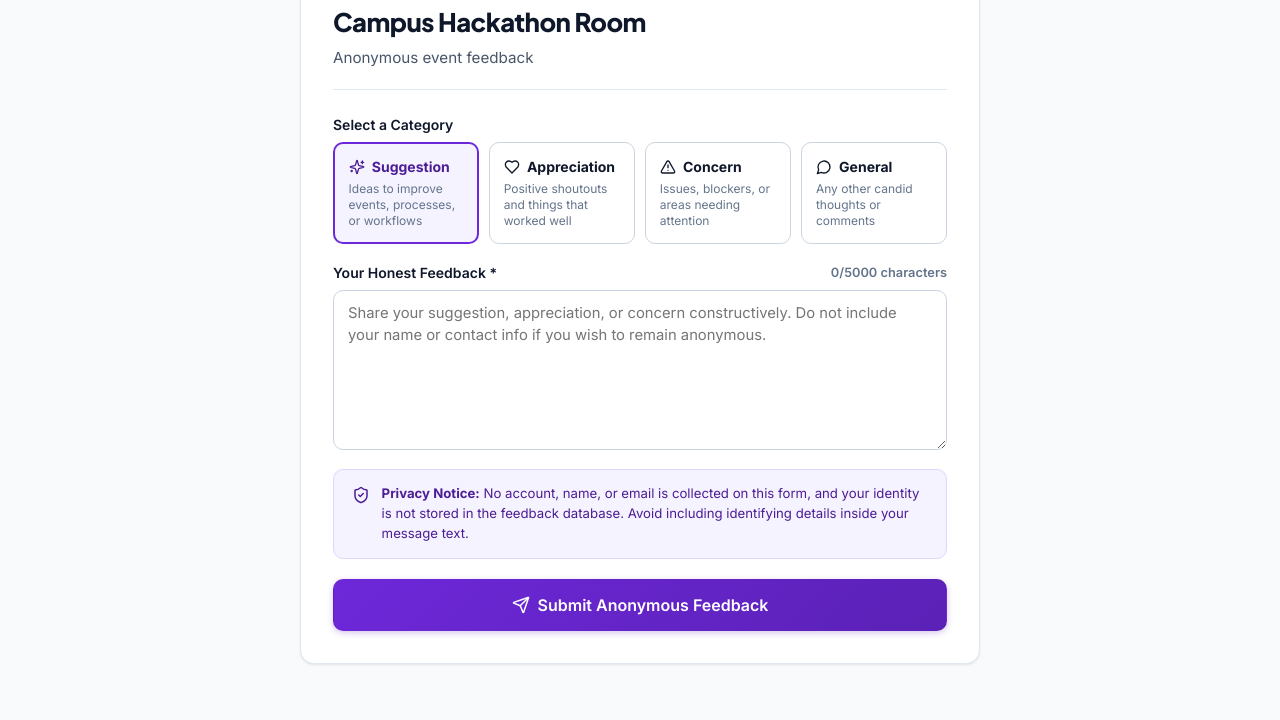
HonestRoom Frontend Test Suite › loads public feedback room, validates input, and submits anonymous feedback
(page scrolled)
Expected: the heading "Campus Hackathon Room" is shown, x1=333 y1=5 x2=646 y2=38
Empty submission validation
Click the button "Submit Anonymous Feedback".
click(640, 605)  # box x1=333 y1=579 x2=947 y2=631
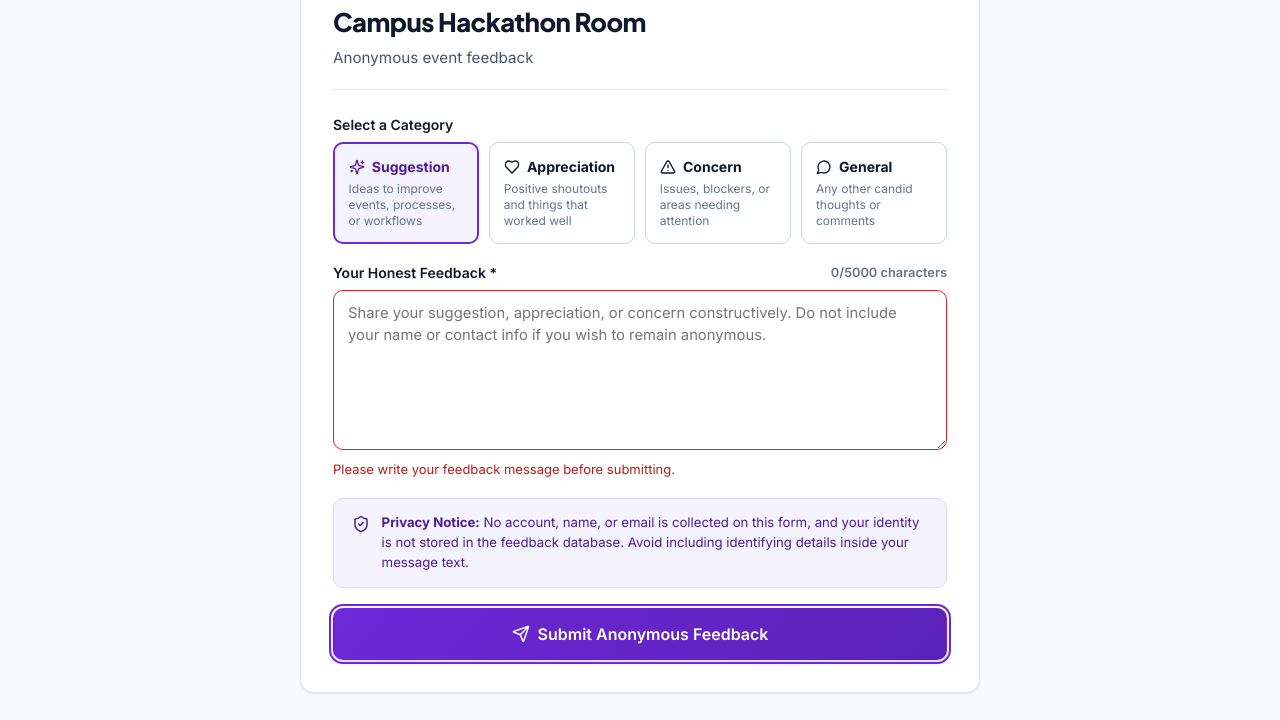
Now the text "Please write your feedback message before submitting." is shown, box x1=333 y1=461 x2=675 y2=477
Valid submission
Type "Great workshops and helpful mentors!" into the text box labelled "Your Honest Feedback * 0/5000 characters".
click(640, 370); type("Great workshops and helpful mentors!")  # box x1=333 y1=290 x2=947 y2=450
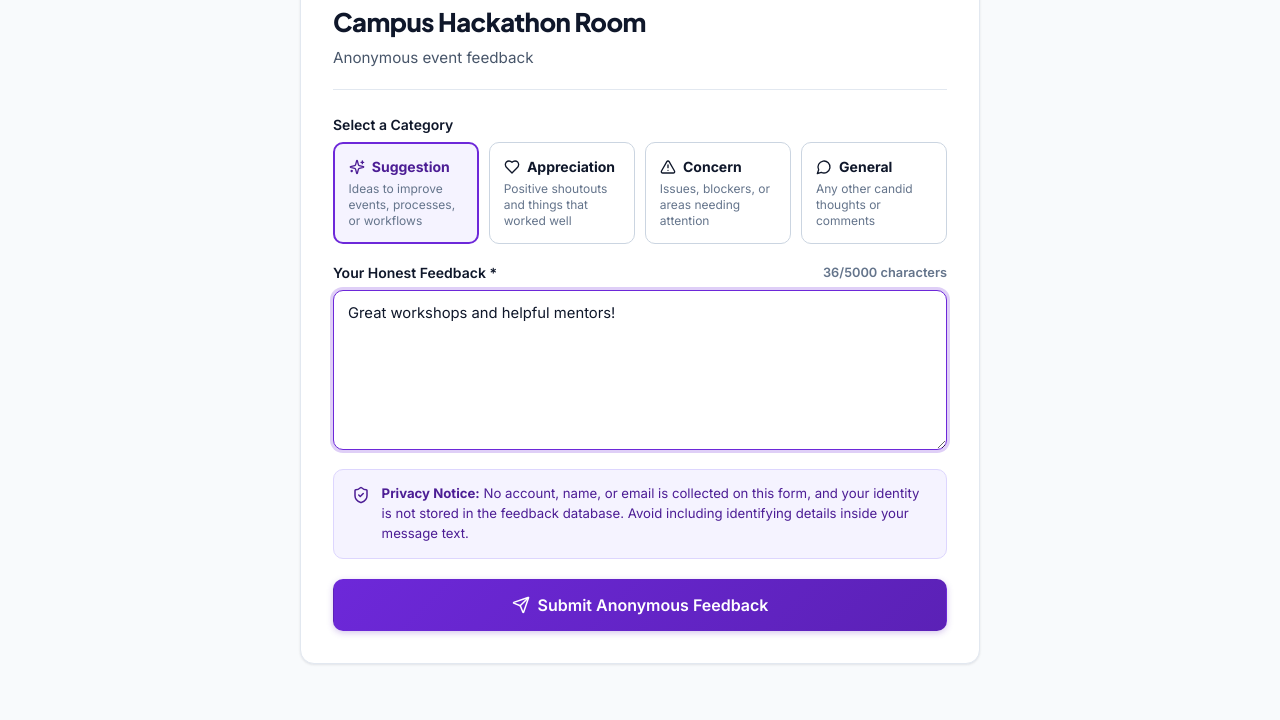
Click the button "Submit Anonymous Feedback".
click(640, 605)  # box x1=333 y1=579 x2=947 y2=631
(page scrolled)
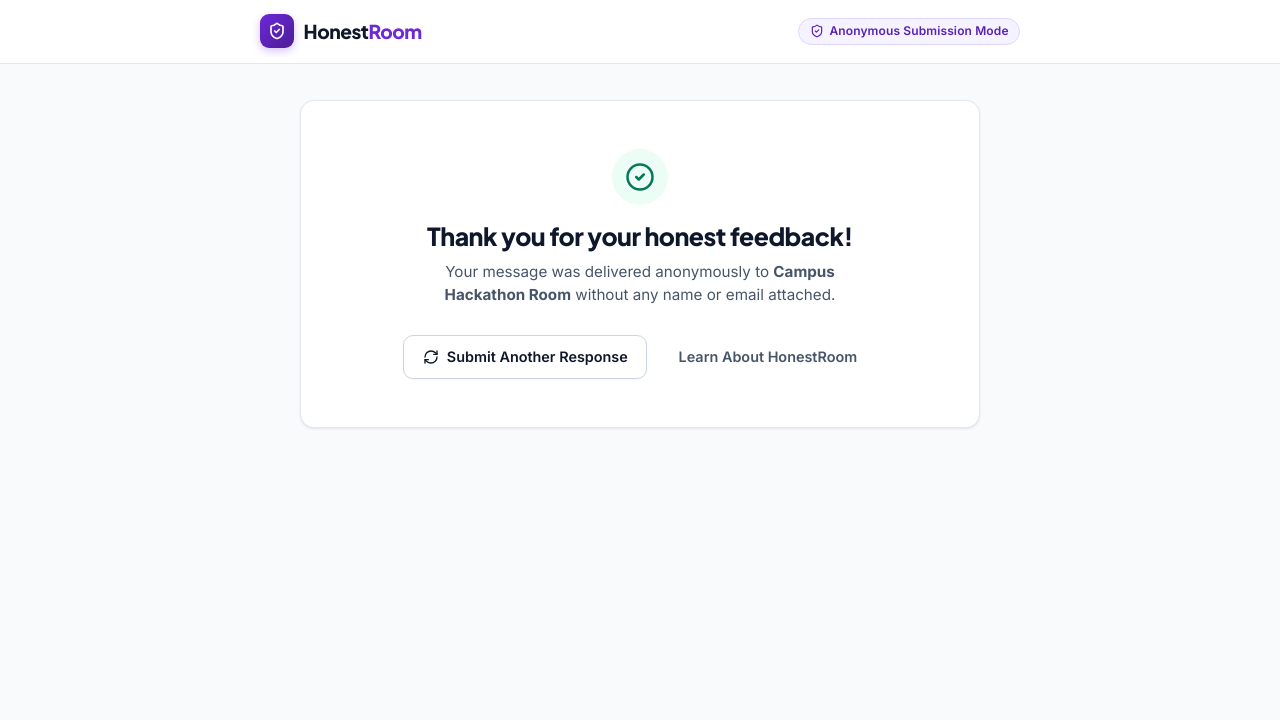
Now the heading "Thank you for your honest feedback!" is shown, box x1=427 y1=220 x2=853 y2=252
